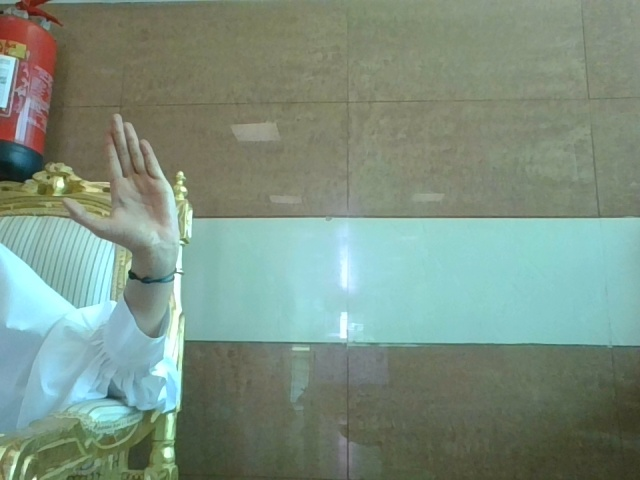Hi: (57, 108, 223, 312)
